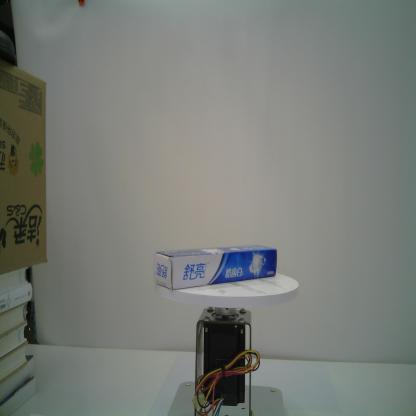Personal Hygiene: (152, 244, 278, 292)
